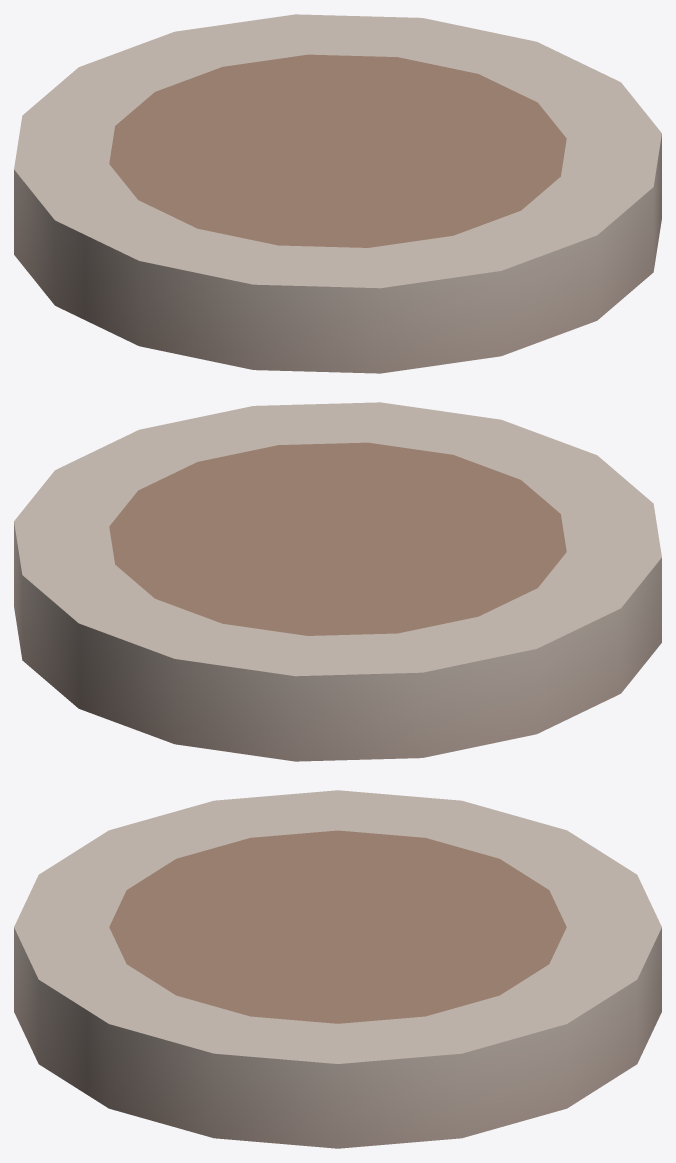
Rendered from cutting-board-round.glb.
The picture shows the model from 3 angles, top to bottom: view 1: azimuth 30°, elevation 25°; view 2: azimuth 150°, elevation 25°; view 3: azimuth 270°, elevation 25°; orthographic projection.
Parts seen in each view (by area): view 1: cutting-board-round; view 2: cutting-board-round; view 3: cutting-board-round.
Part boxes in pixels (<box>): cutting-board-round: <box>14,14,661,373</box>; cutting-board-round: <box>14,402,661,761</box>; cutting-board-round: <box>14,790,661,1148</box>.
Size of the model in its own units: 0.2776 by 0.04 by 0.2776.
